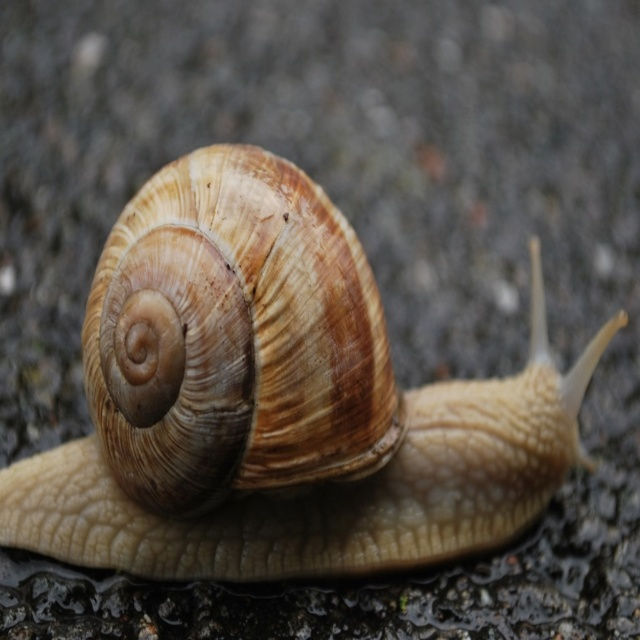Snail: (0, 143, 628, 581)
